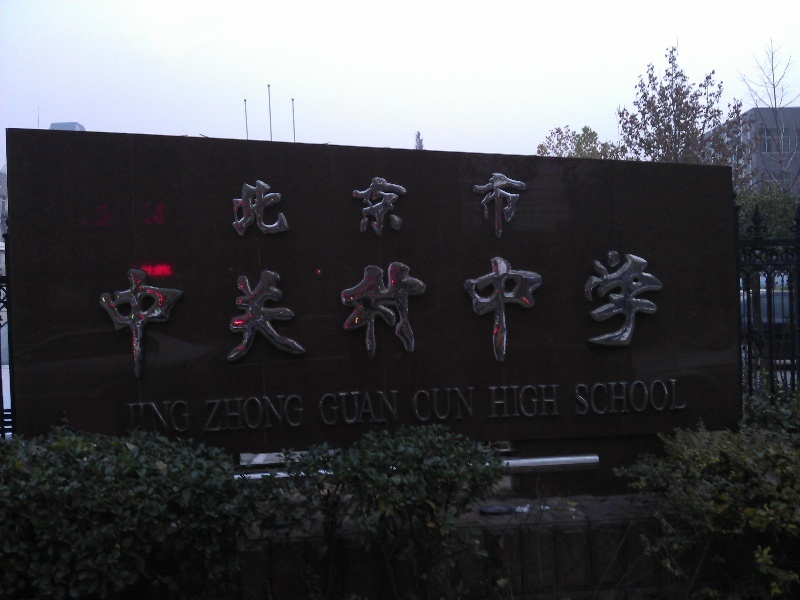text: (113, 250, 128, 378), (129, 250, 144, 378), (145, 250, 160, 378), (161, 250, 176, 378), (177, 250, 192, 378), (193, 250, 208, 378), (209, 250, 224, 378), (225, 250, 240, 378), (241, 250, 256, 378), (257, 250, 272, 378), (273, 250, 288, 378), (289, 250, 304, 378), (305, 250, 320, 378), (321, 250, 336, 378), (337, 250, 352, 378), (353, 250, 368, 378), (369, 250, 384, 378), (385, 250, 400, 378), (401, 250, 416, 378), (417, 250, 432, 378), (433, 250, 448, 378), (449, 250, 464, 378), (465, 250, 480, 378), (481, 250, 496, 378), (497, 250, 512, 378), (513, 250, 528, 378), (529, 250, 544, 378), (545, 250, 560, 378), (561, 250, 576, 378), (577, 250, 592, 378), (593, 250, 608, 378), (609, 250, 624, 378), (625, 250, 640, 378), (641, 250, 656, 378), (99, 250, 112, 378), (657, 250, 666, 378), (241, 164, 256, 239), (257, 164, 272, 239), (273, 164, 288, 239), (289, 164, 304, 239), (305, 164, 320, 239), (321, 164, 336, 239), (337, 164, 352, 239), (353, 164, 368, 239), (369, 164, 384, 239), (385, 164, 400, 239), (401, 164, 416, 239), (417, 164, 432, 239), (433, 164, 448, 239), (449, 164, 464, 239), (465, 164, 480, 239), (481, 164, 496, 239), (497, 164, 512, 239), (513, 164, 527, 239), (231, 164, 240, 239), (209, 392, 224, 437), (225, 392, 240, 437), (241, 392, 256, 437), (257, 392, 272, 437), (273, 392, 288, 437), (289, 392, 304, 437), (385, 389, 401, 428), (673, 380, 689, 418), (177, 399, 193, 436), (321, 389, 336, 428), (337, 389, 352, 428), (353, 389, 368, 428), (369, 389, 384, 428), (577, 380, 592, 418), (593, 380, 608, 418), (609, 380, 624, 418), (625, 380, 640, 418), (641, 380, 656, 418), (657, 380, 672, 418), (129, 399, 144, 436), (145, 399, 160, 436), (161, 399, 176, 436), (417, 387, 432, 422), (433, 387, 448, 422), (449, 387, 464, 422), (497, 385, 512, 420), (513, 385, 528, 420), (529, 385, 544, 420), (545, 385, 560, 420), (465, 387, 479, 422), (486, 385, 496, 420), (202, 392, 208, 437), (570, 380, 576, 418), (305, 392, 309, 437), (124, 399, 128, 436), (412, 387, 416, 422), (318, 389, 320, 428), (561, 385, 563, 420)
